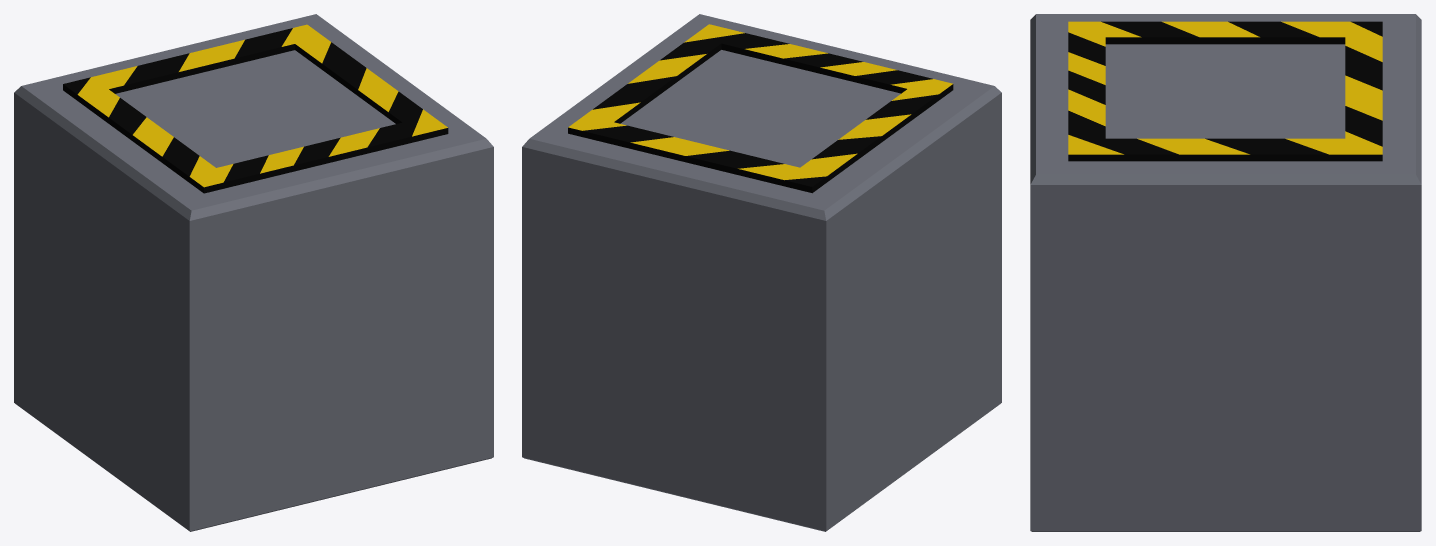
The picture shows the model from 3 angles, left to right: view 1: azimuth 30°, elevation 25°; view 2: azimuth 150°, elevation 25°; view 3: azimuth 270°, elevation 25°; orthographic projection. The views are drawn at different scales.
Parts seen in each view (by area): view 1: 立方体.014, 立方体.003; view 2: 立方体.014, 立方体.003; view 3: 立方体.014, 立方体.003.
Boxes of the visible parts, x1=… form: 立方体.014: x1=14, y1=14, x2=493, y2=531; 立方体.003: x1=63, y1=24, x2=448, y2=193; 立方体.014: x1=522, y1=14, x2=1001, y2=531; 立方体.003: x1=568, y1=24, x2=953, y2=193; 立方体.014: x1=1030, y1=14, x2=1421, y2=531; 立方体.003: x1=1068, y1=21, x2=1382, y2=161.
Bounding box in the file's own units: 200 × 200 × 205.
